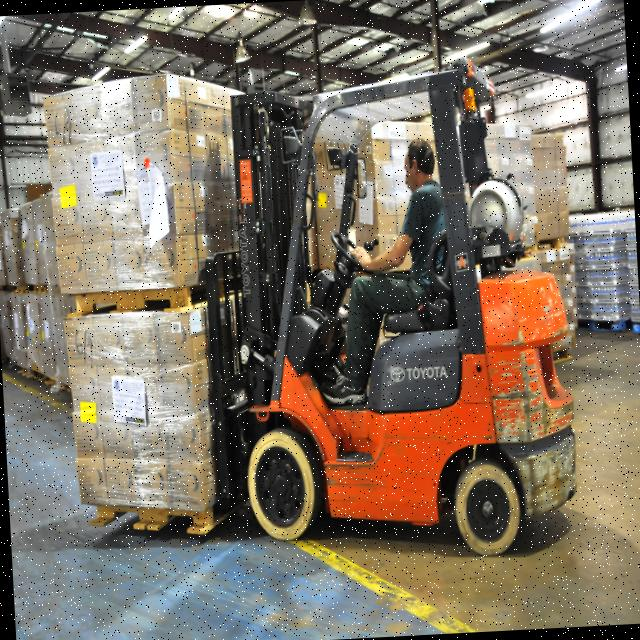Person: (310, 138, 456, 406)
